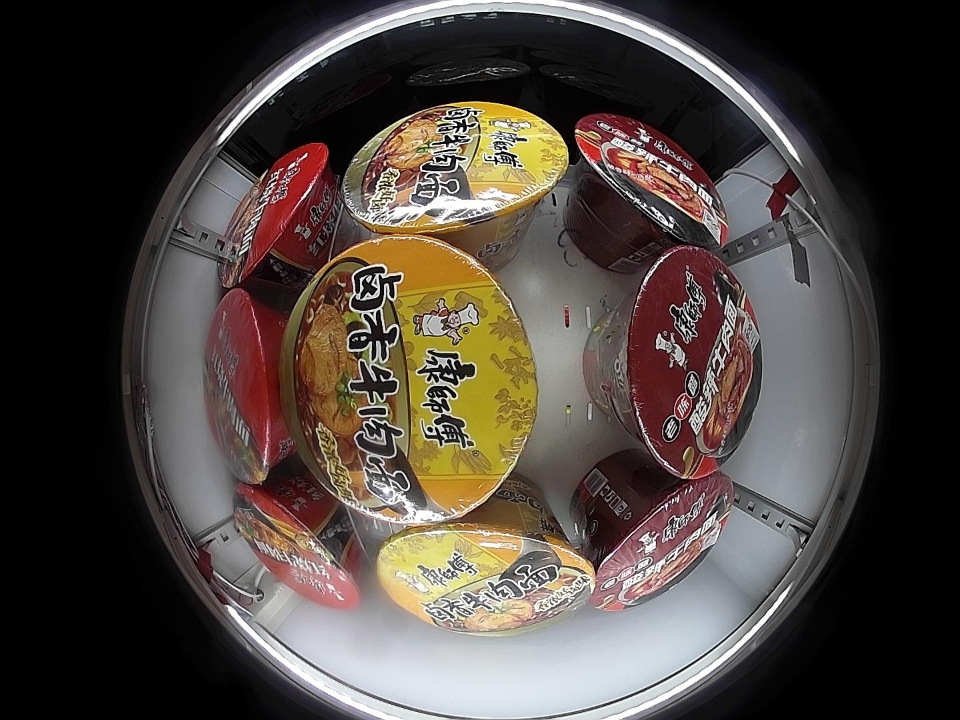hongshaoniurou: (219, 143, 336, 288), (233, 480, 362, 610), (206, 290, 290, 484)
luxiangniurou: (283, 235, 539, 524), (341, 101, 568, 236), (376, 517, 595, 635)
suanlaniurou: (606, 246, 762, 477), (573, 112, 729, 249), (588, 475, 735, 611)
